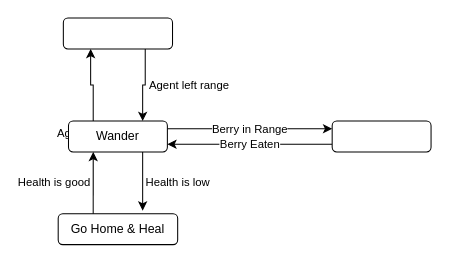
This 449x263 diagram has some shape labels left out. The centre of each missing label's shape, as x and y in pixels:
Flee From Agent: (x=117, y=33)
Seek & Eat: (x=381, y=136)
